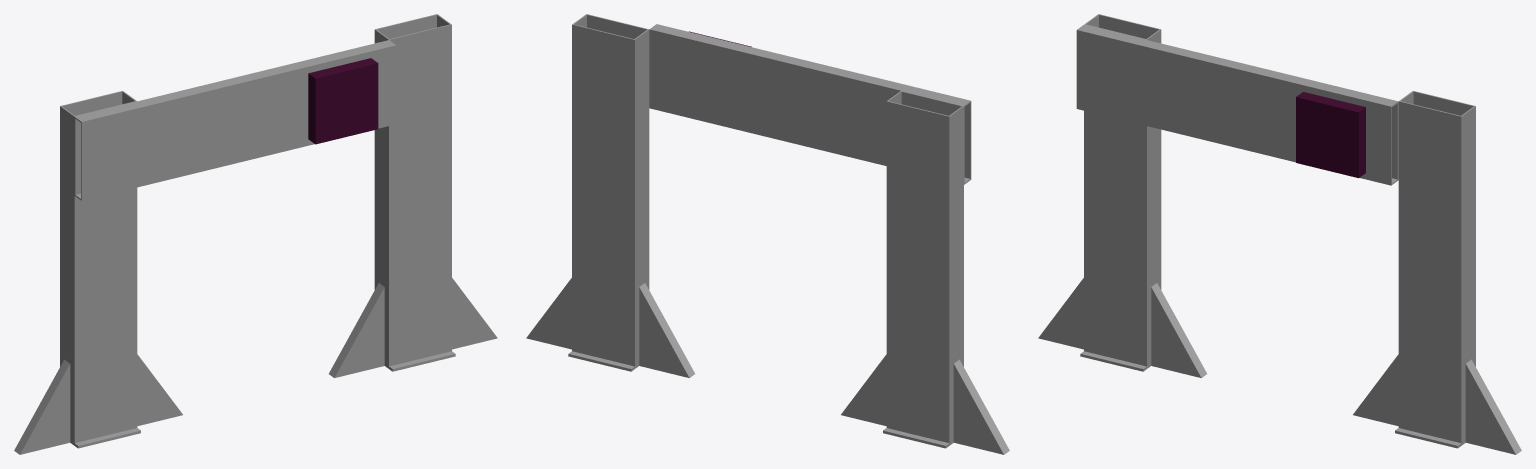
The model's file is struttura_supporto_Kuka.glb.
3 renders of one model, left to right at view 1: azimuth 30°, elevation 25°; view 2: azimuth 150°, elevation 25°; view 3: azimuth 330°, elevation 25°, orthographic.
Visible parts, largest first — view 1: color, color-3; view 2: color; view 3: color, color-3.
Part boxes in pixels (x1,y1,x2,y2): color: [14, 14, 497, 454]; color-3: [308, 58, 378, 144]; color: [526, 14, 1009, 454]; color: [1038, 14, 1521, 454]; color-3: [1296, 92, 1365, 178].
Size of the model in its own units: 3.8 by 2.5 by 0.45.
